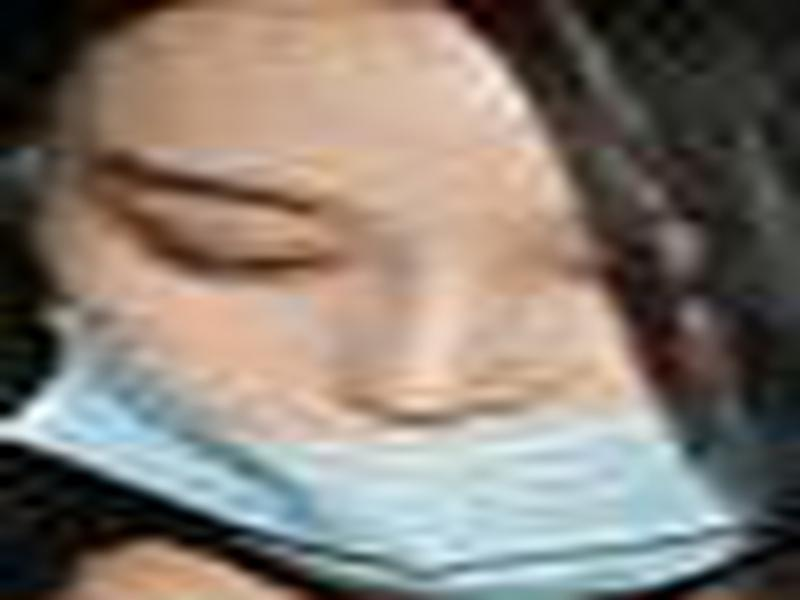with_mask: (4, 1, 800, 600)
